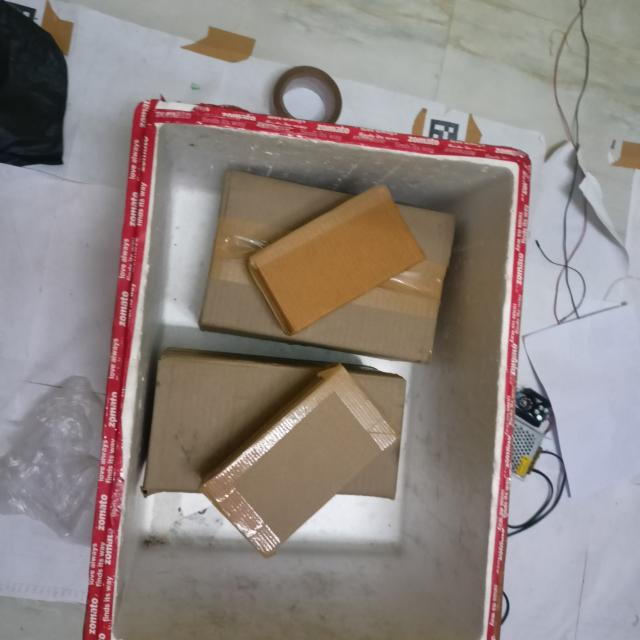box: (193, 354, 405, 557), (245, 174, 435, 335)
